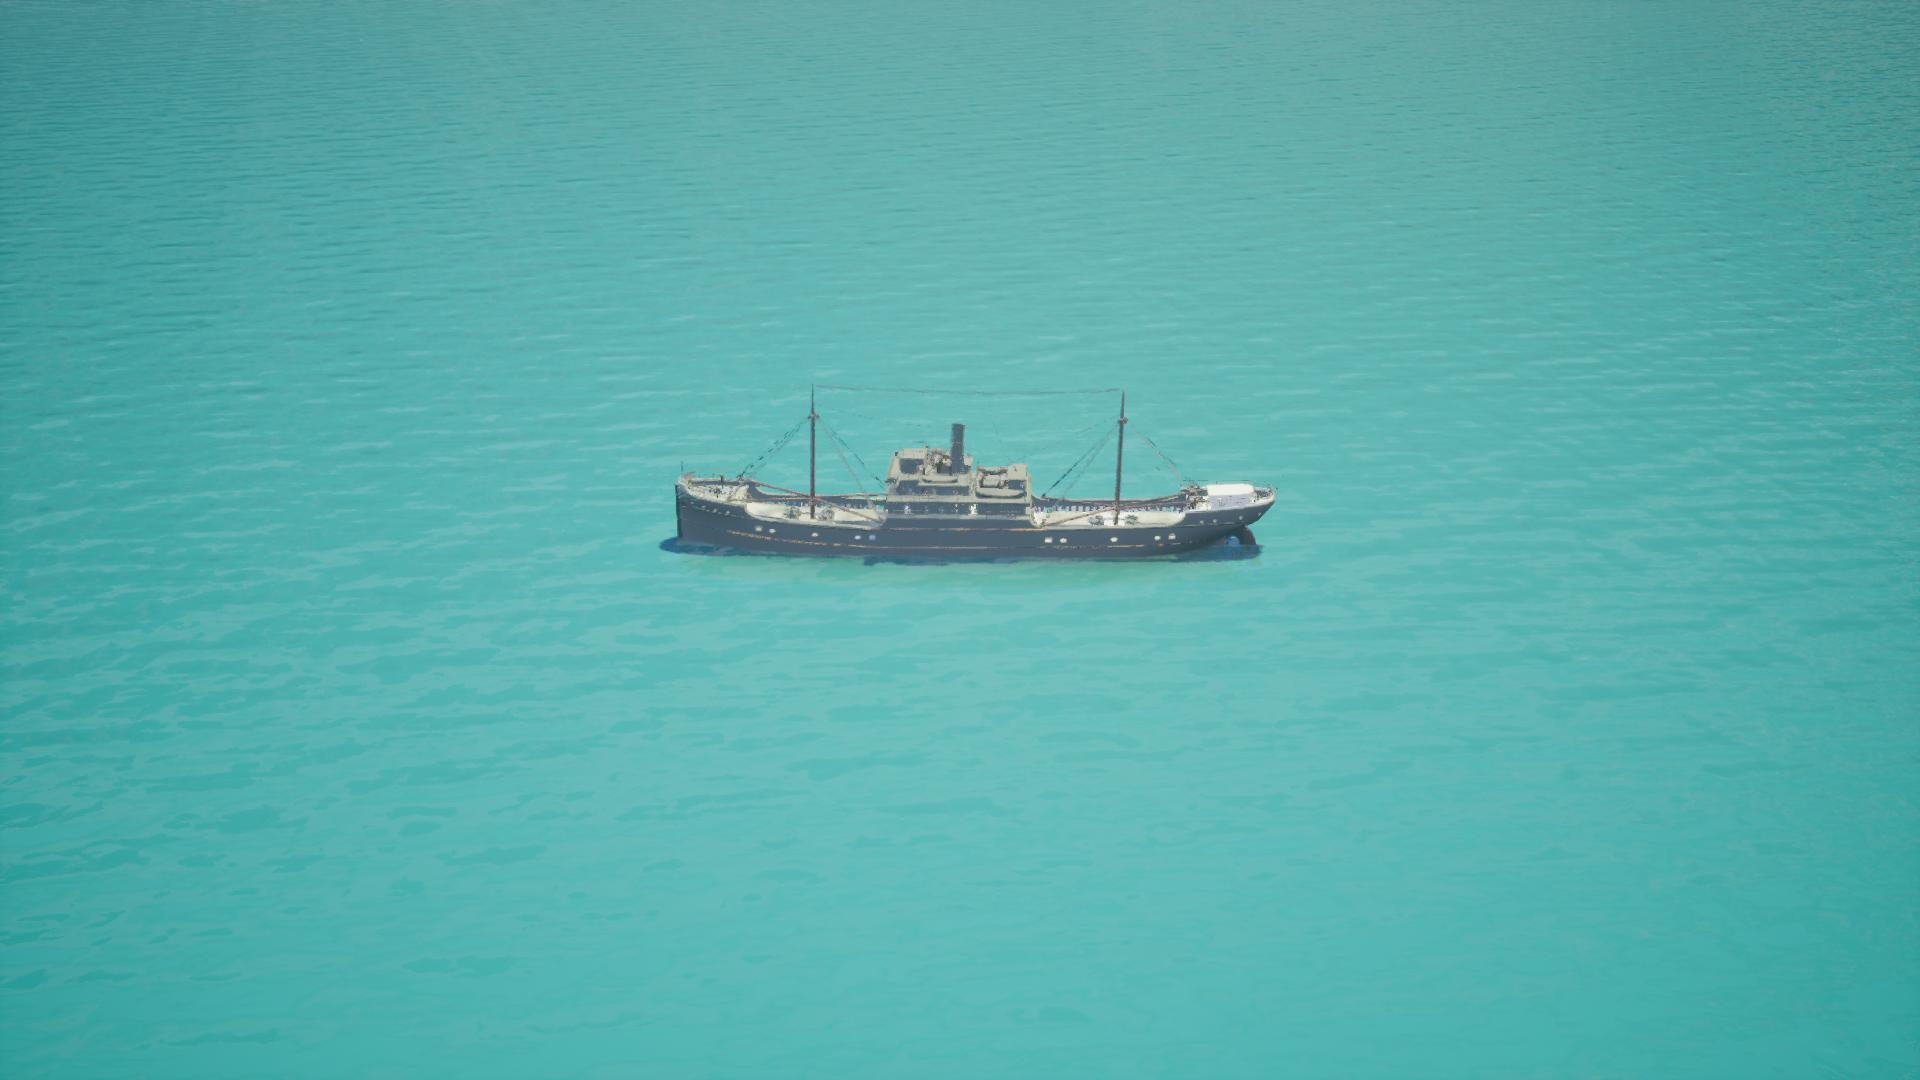Fishing Boat: (675, 386, 1273, 560)
